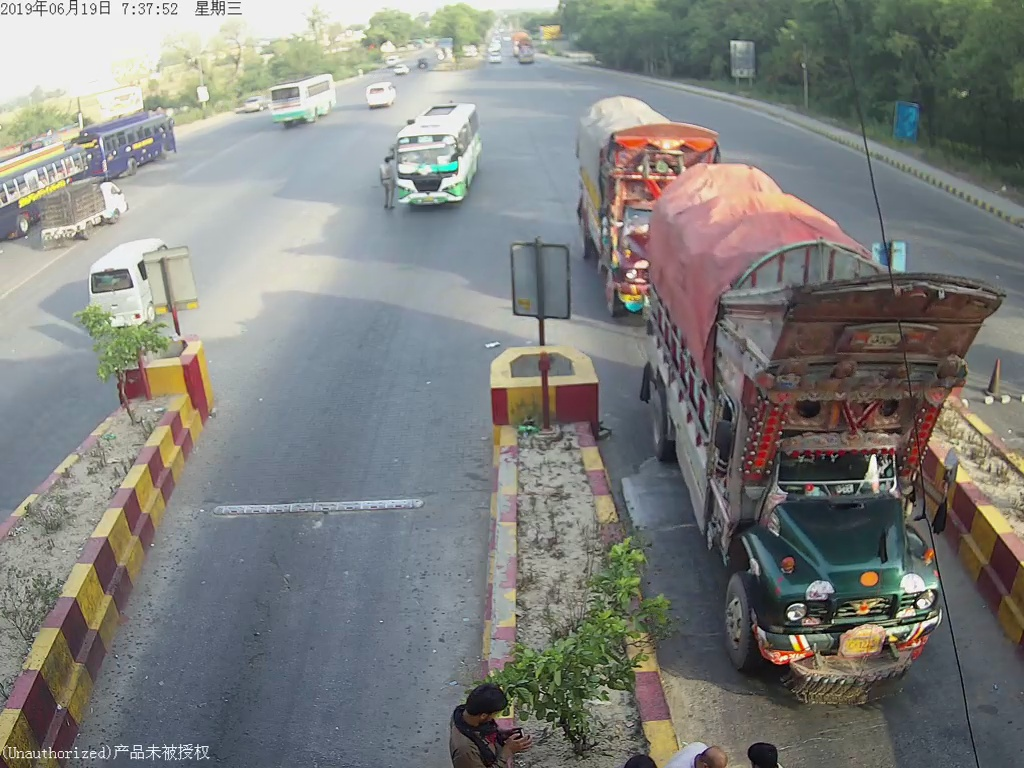Cat-3: (390, 96, 481, 205)
Cat-4: (655, 170, 989, 696), (568, 97, 705, 317)
